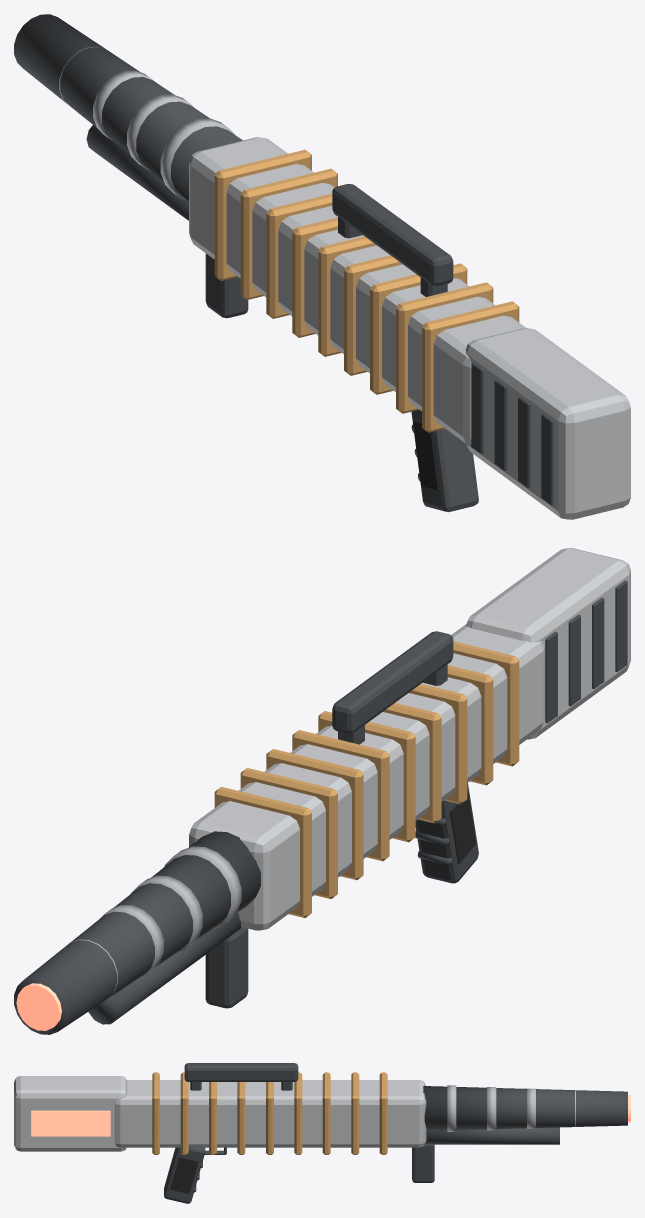
Rendered from laser_cannon.glb.
3 renders of one model, top to bottom at view 1: azimuth 30°, elevation 25°; view 2: azimuth 150°, elevation 25°; view 3: azimuth 270°, elevation 25°, orthographic. The views are drawn at different scales.
Visible parts, largest first — view 1: Laser_cannon; view 2: Laser_cannon; view 3: Laser_cannon.
Boxes of the visible parts, bbox=[...] form: Laser_cannon: bbox=[14, 14, 630, 519]; Laser_cannon: bbox=[14, 548, 630, 1034]; Laser_cannon: bbox=[14, 1063, 630, 1203].
Bounding box in the file's own units: 0.105 × 0.263 × 1.09.
